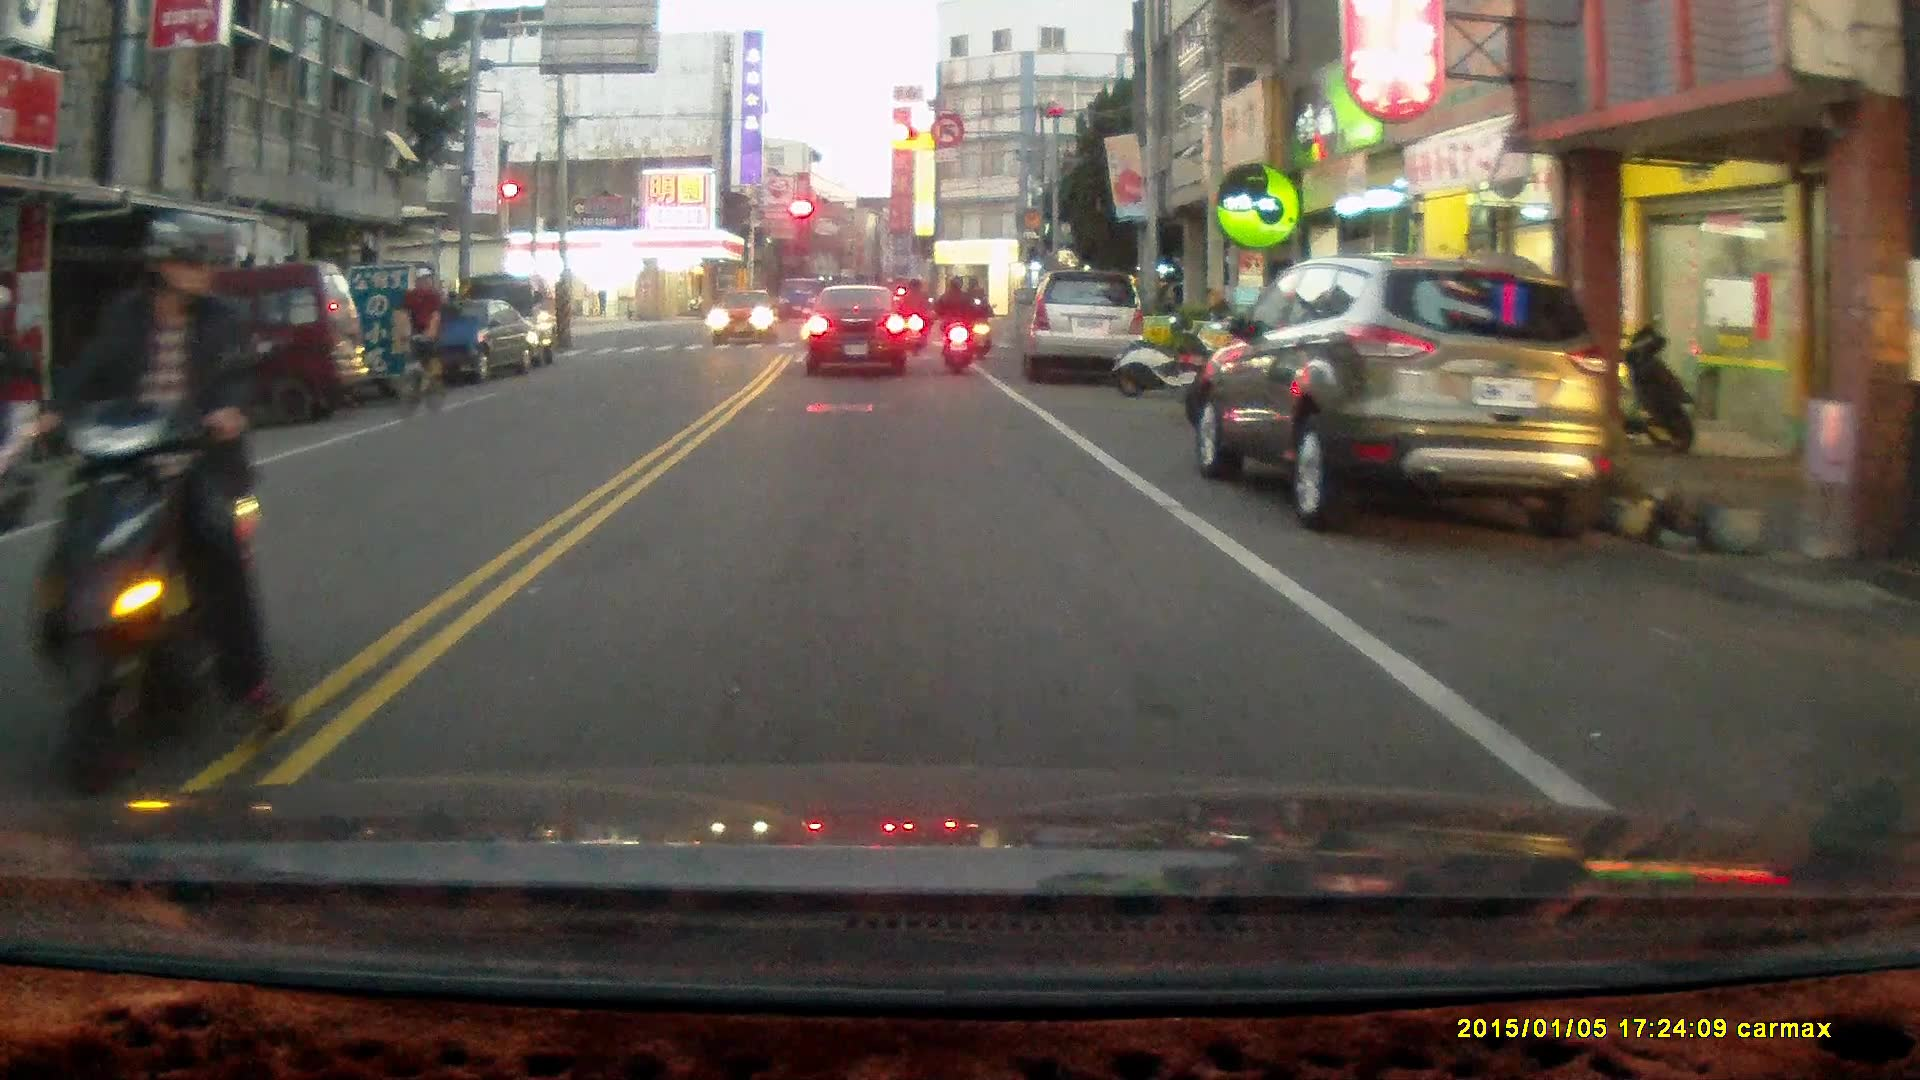rider: (0, 207, 283, 799), (0, 275, 44, 541), (393, 269, 446, 420), (930, 271, 978, 377), (896, 274, 931, 357), (962, 282, 992, 360)
vehicle: (1194, 254, 1606, 542), (101, 262, 373, 432), (1025, 270, 1150, 386), (412, 297, 534, 385), (807, 282, 913, 375), (706, 286, 776, 345)
